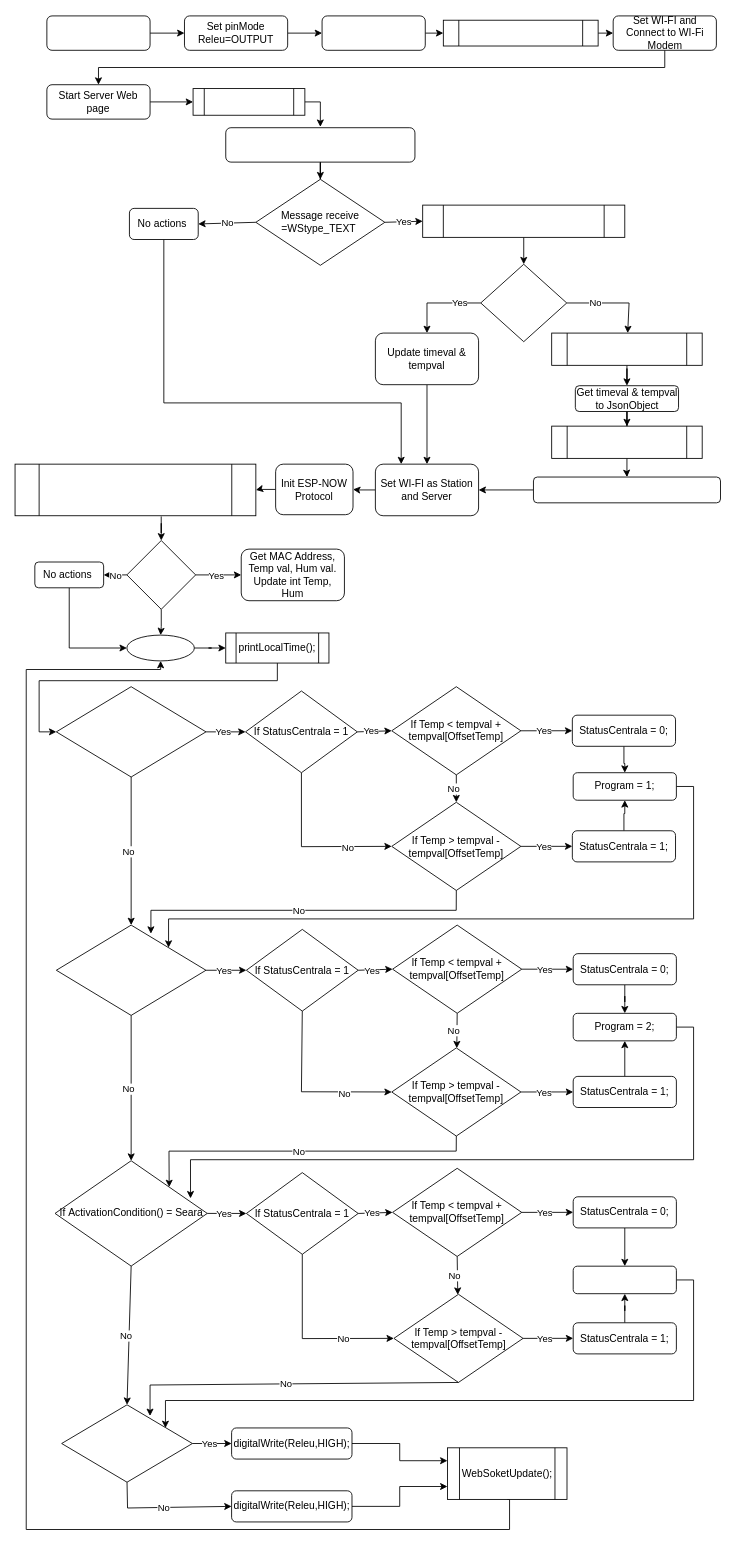
Some shapes in this 736 by 1551 pixel diagram are drawn without their labels. The shapes that lost their labels are listed below. From the top down, each one's centre as x and y in pixels, then its label:
At (x=98, y=32): "Power On".
At (x=373, y=32): "Serial initialization".
At (x=520, y=32): "DataStorageRead(0, 130)".
At (x=248, y=101): "webSocket.begin()".
At (x=320, y=144): "webSocket.onEvent(webSocketEvent)".
At (x=523, y=220): "deserializeJson (doc_rx, payload)".
At (x=523, y=302): "If msg_type = 1".
At (x=626, y=348): "WS_ProgramareUpdate()".
At (x=626, y=441): "serializeJson(doc2_tx, jsonString);".
At (x=135, y=489): "esp_now_register_recv_cb(OnDataRecv)".
At (x=627, y=489): "webSocket.broadcastTXT(jsonString);".
At (x=161, y=574): "If mesage receive".
At (x=160, y=647): "Loop".
At (x=130, y=731): "If ActivationCondition() = Dimineata".
At (x=130, y=969): "If ActivationCondition() = Dupamasa".
At (x=624, y=1279): "Program = 3;".
At (x=126, y=1443): "If StatusCentrala == 1".
